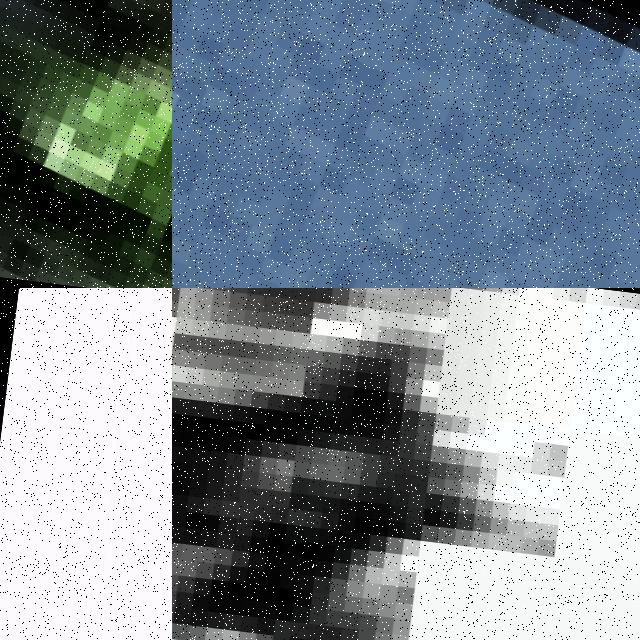drone: (172, 0, 640, 288), (0, 0, 172, 288)
